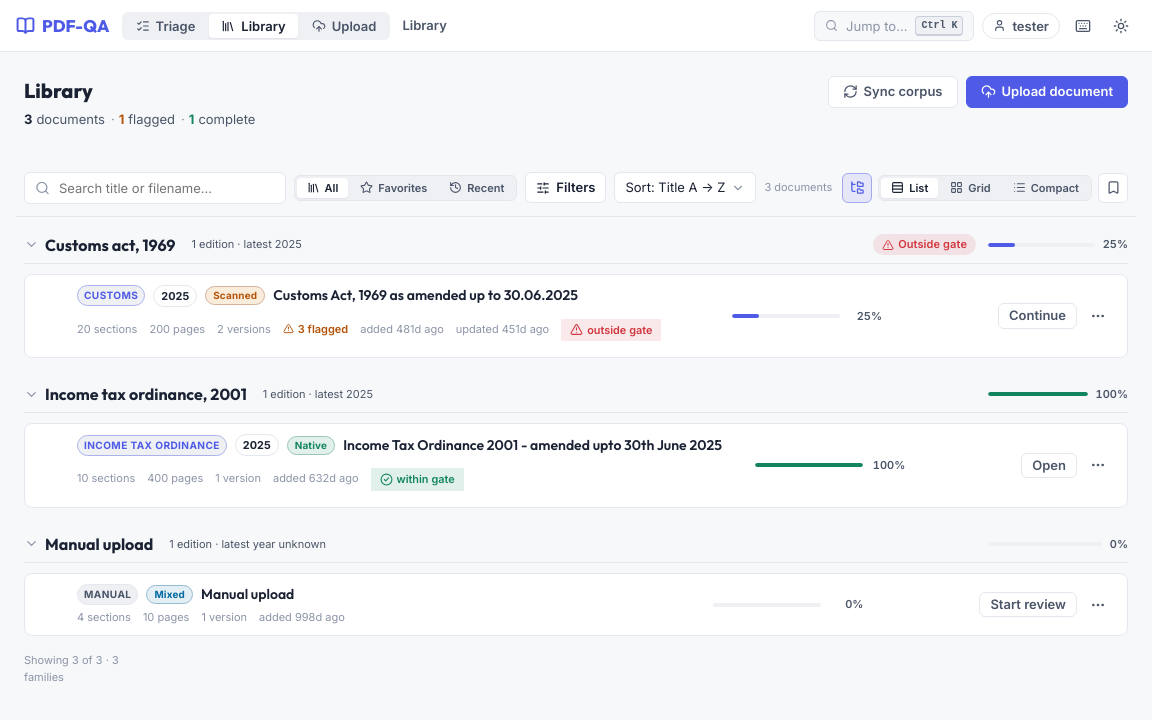
Test: Library page › searches server-side after a debounce and reflects q in the URL
Expected: the text "3 documents" is shown, [764,179,832,196]
Press /
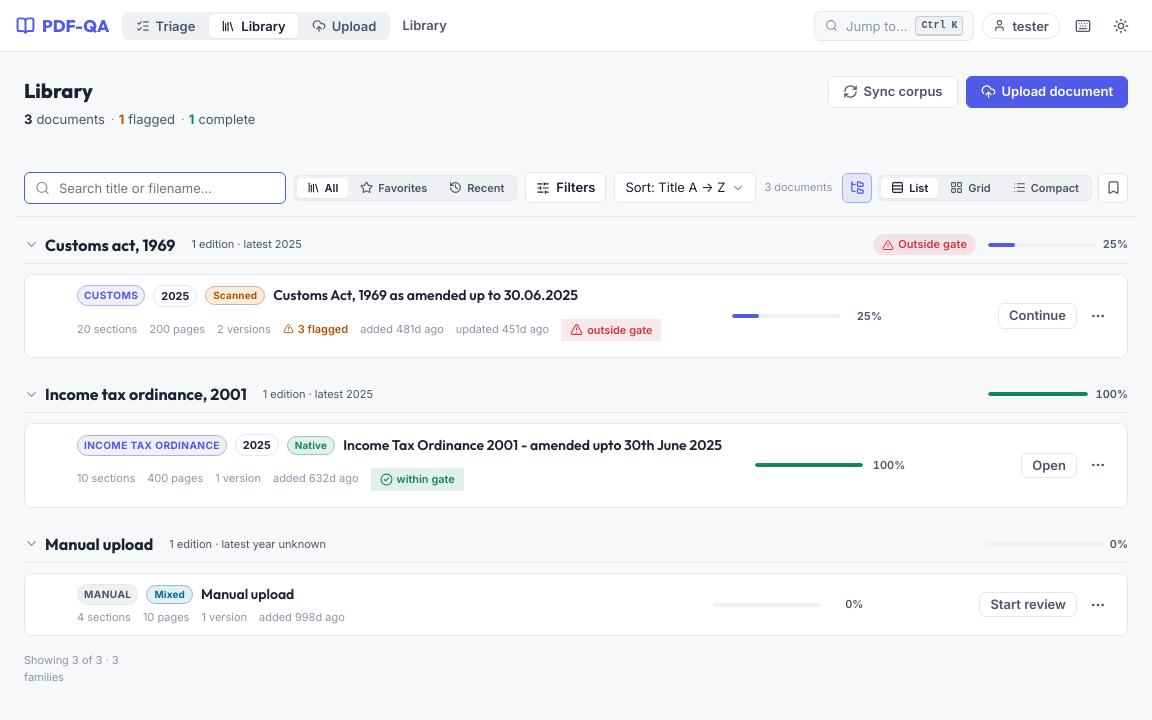
In the search field named "Search documents": (155, 188) [24,172,286,204], type "secret-code"
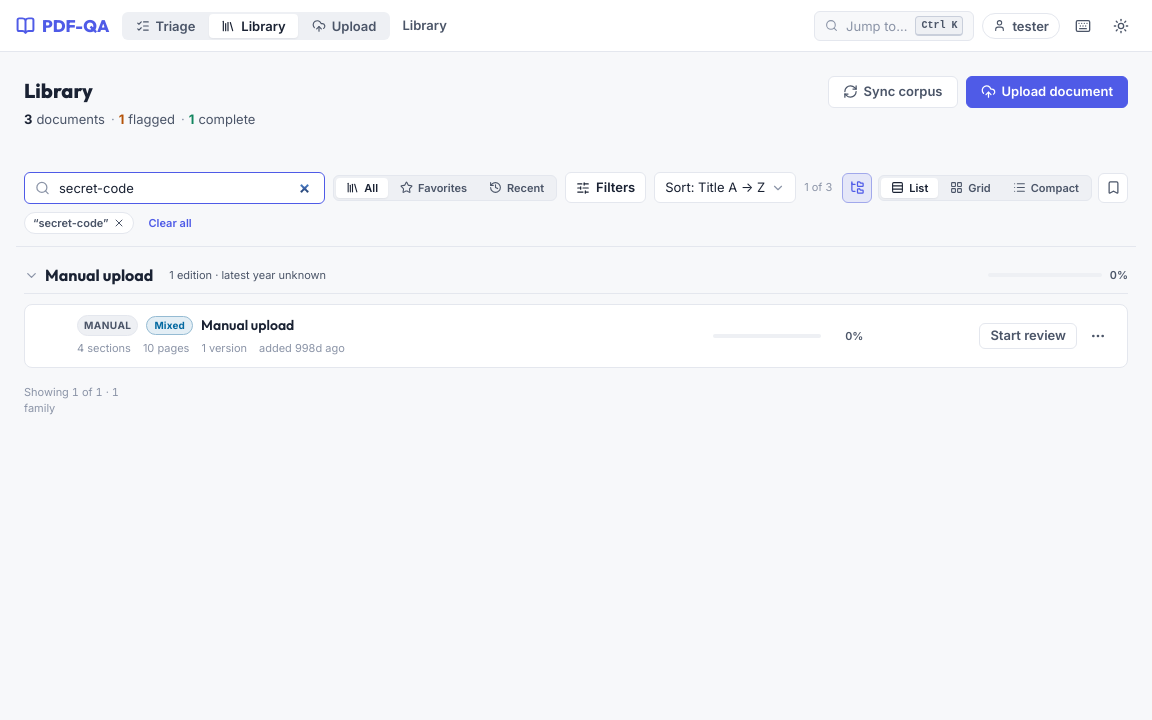
Expected: the text "1 of 3" is shown, [804,179,832,196]
Expected: the button "Income tax ordinance" is gone
Expected: the button "“secret-code”" is shown, [24,212,134,234]
